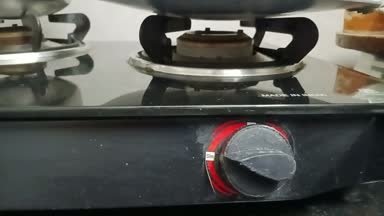noflame_gason: (130, 12, 344, 202)
